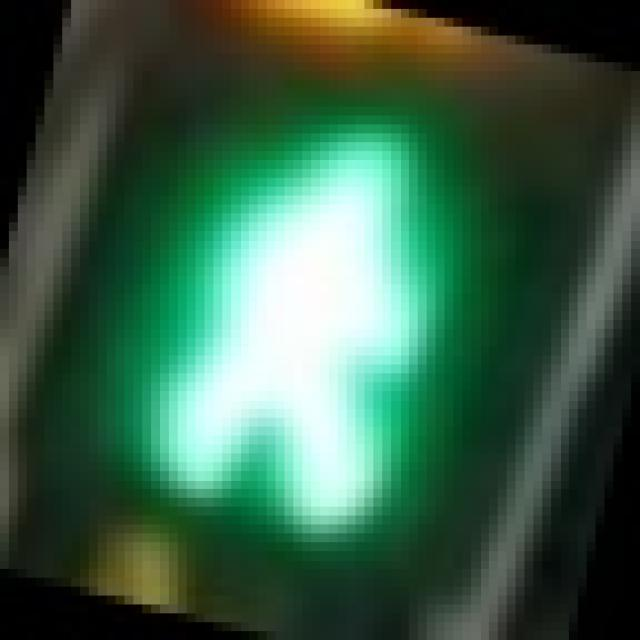green_light: (98, 62, 516, 551)
